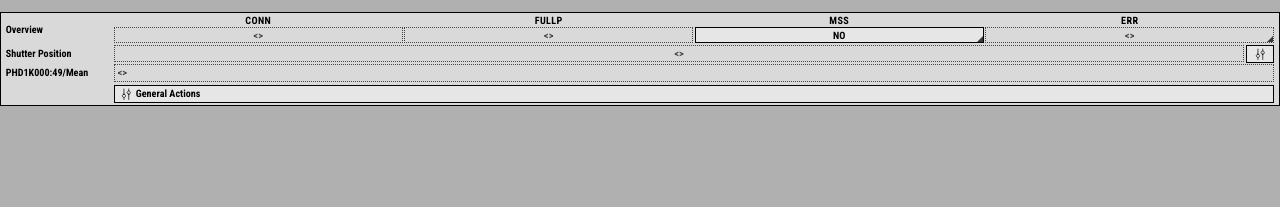
Test: GeneralSection › expands the MSS detail list when the MSS overview cell is clicked
The width and height of the screenshot is (1280, 207).
Expected: the text "MSS 1" is not shown
Click the button with aria-label "Toggle MSS detail".
click(839, 35)  # box top-left (695, 27), bottom-right (984, 43)
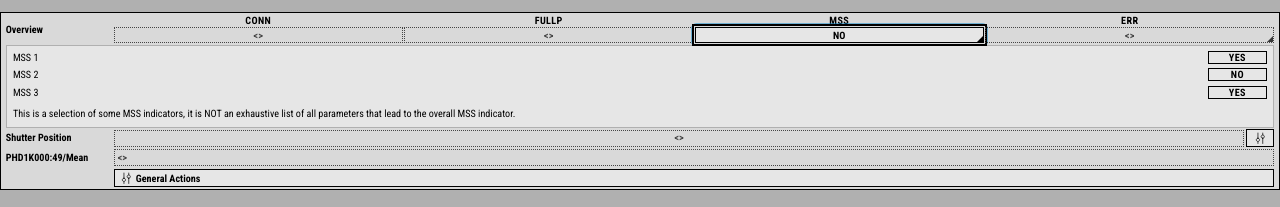
Result: the text "MSS 1" is shown at top-left (13, 52), bottom-right (38, 62)
Result: the text "MSS 2" is shown at top-left (13, 69), bottom-right (38, 80)
Result: the text "MSS 3" is shown at top-left (13, 87), bottom-right (38, 98)
